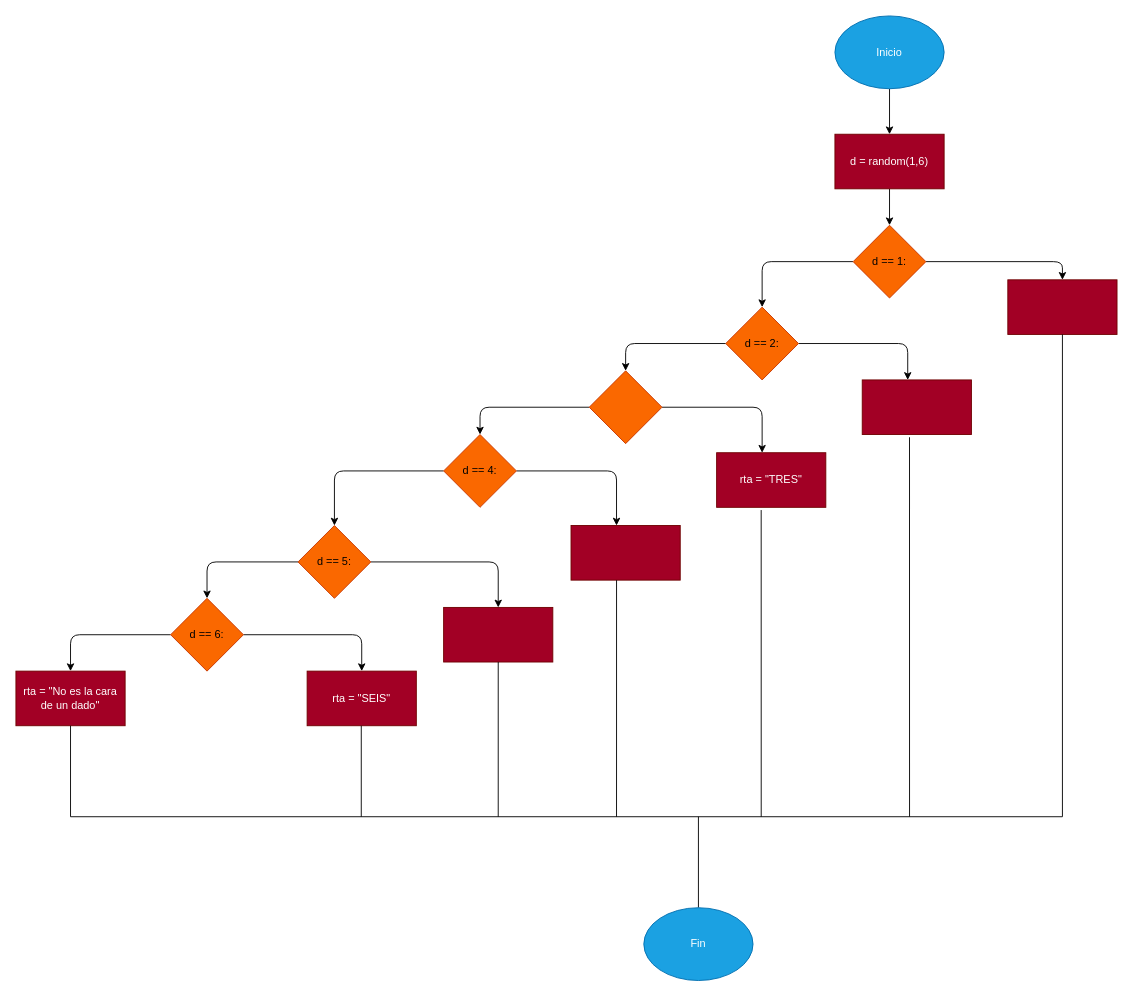
Image size: 1133x996. Some labels were removed from this diagram. Here are the shapes that lost their labels. From the top down, the box of each, then its label:
(1007, 279, 1117, 334): rta = "UNO"
(588, 370, 662, 444): d == 3:
(861, 379, 971, 435): rta = "DOS"
(570, 525, 680, 580): rta = "CUATRO"
(443, 607, 553, 662): rta ="CINCO"
